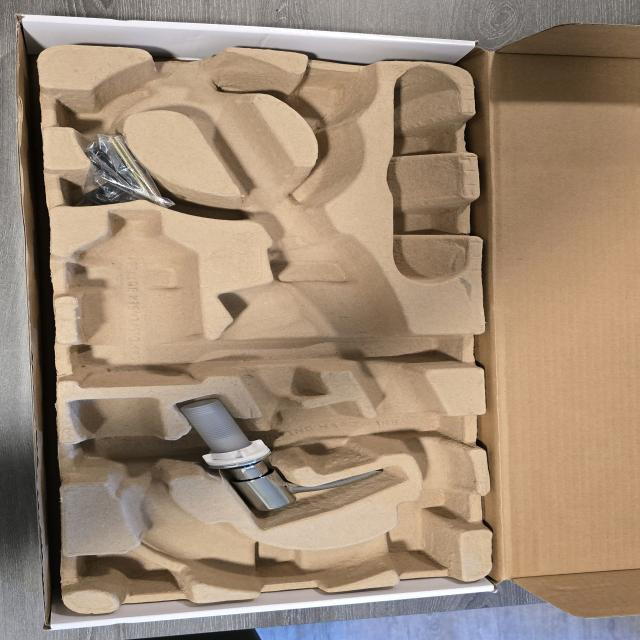1m: (72, 52, 468, 586)
2: (179, 399, 387, 512)
3m: (79, 209, 200, 384)
4m: (388, 65, 467, 286)
5m: (291, 69, 370, 130)
6m: (55, 84, 146, 129)
7: (74, 134, 176, 206)
